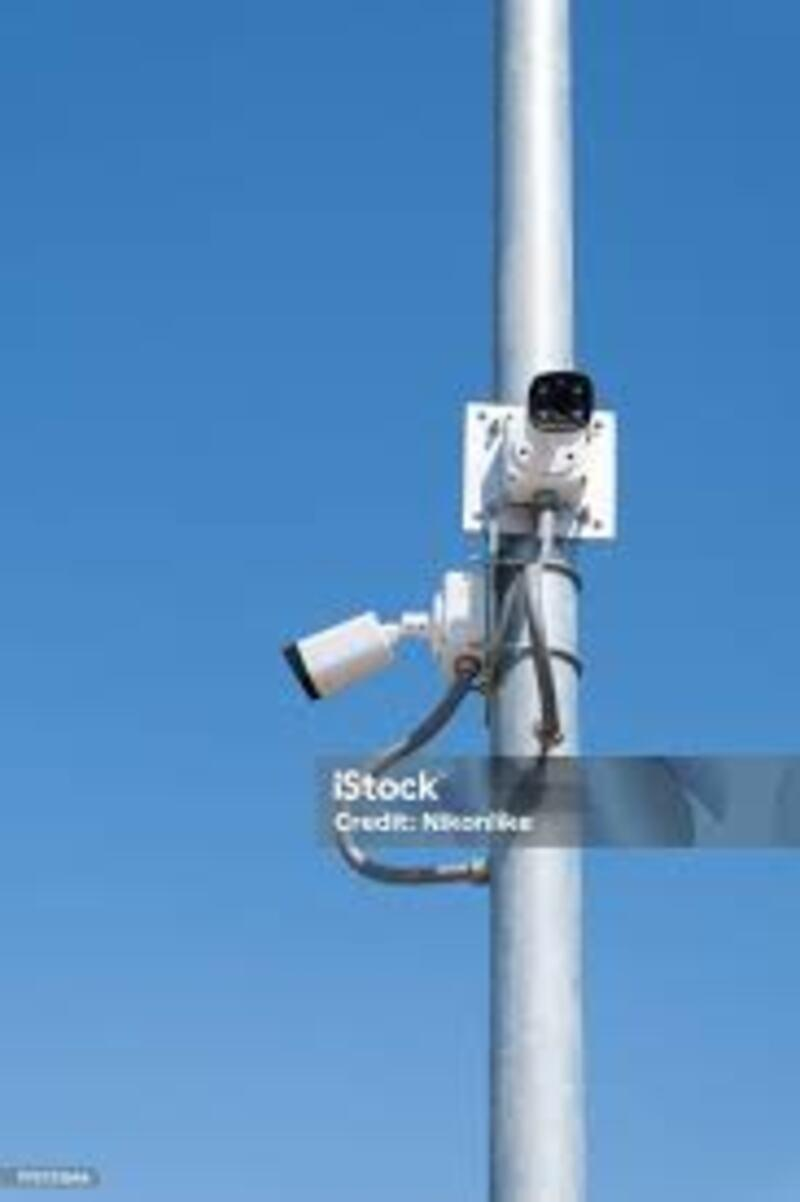dome: (255, 604, 405, 704), (502, 365, 594, 457)
